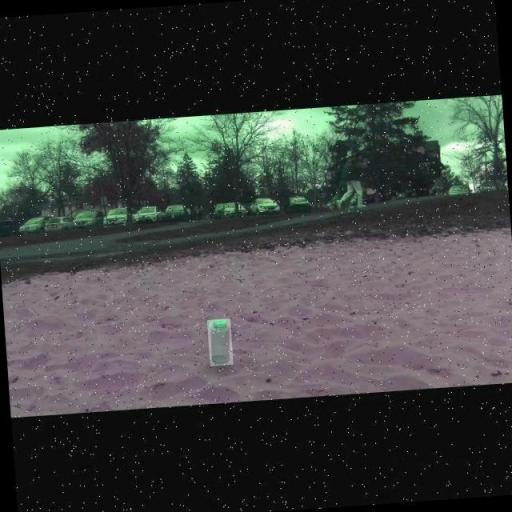bottle: (206, 319, 233, 366)
